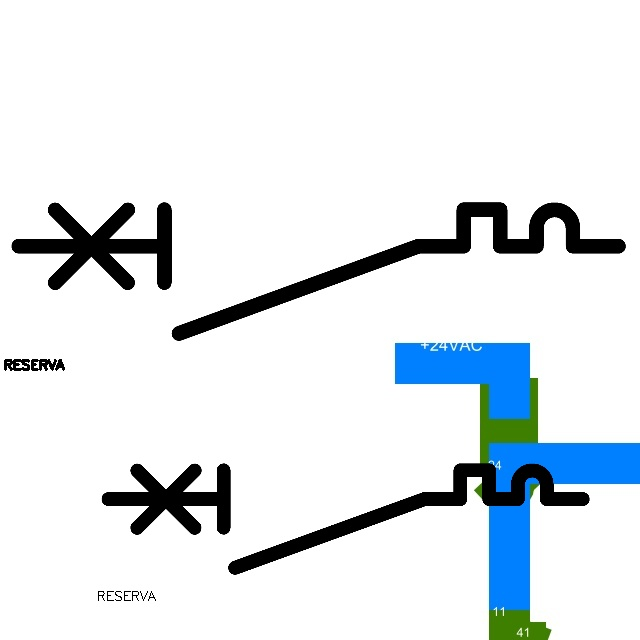interruptor_termomagnetico: (3, 194, 634, 348), (96, 458, 595, 580)
